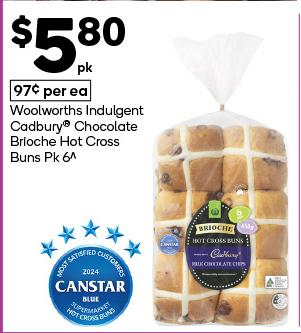description_block: (6, 103, 146, 171)
price_main: (9, 8, 131, 78)
product_image_block: (150, 32, 296, 331)
unit_price_block: (7, 80, 108, 104)
